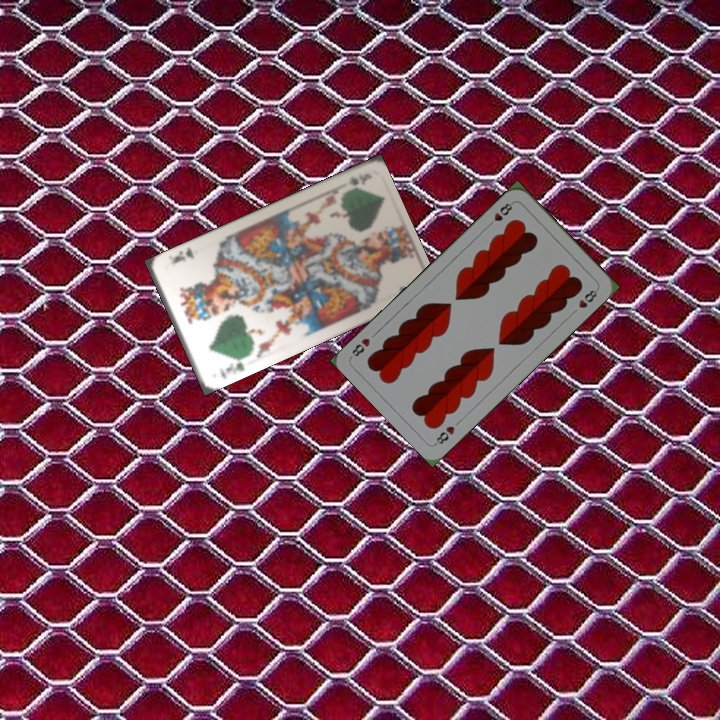GK: (215, 353, 248, 382), (345, 171, 374, 188)
H8: (484, 198, 516, 230), (431, 422, 457, 448)
